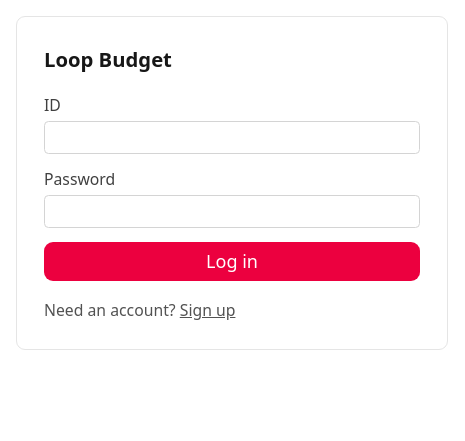
Test: App › switches between the login and signup screens
Expected: the button "Log in" is shown, [44, 242, 420, 281]
Click the button "Sign up" at x=208, y=310, box [180, 299, 236, 322]
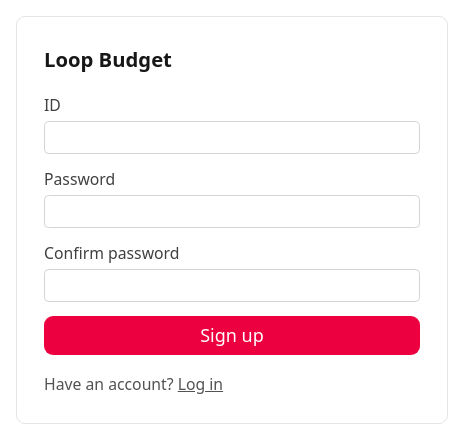
Expected: the password field labelled "Confirm password" is shown, [44, 268, 420, 302]
Click the button "Log in" at x=200, y=384, box [178, 373, 223, 396]
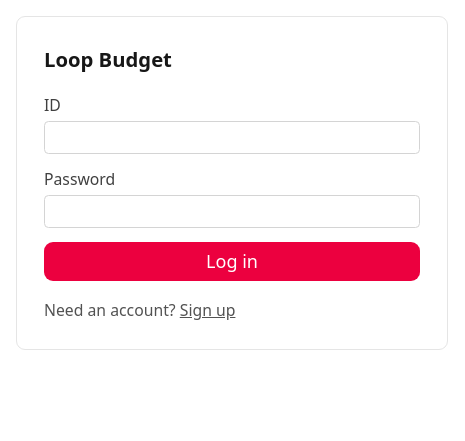
Expected: the label labelled "Confirm password" is gone
